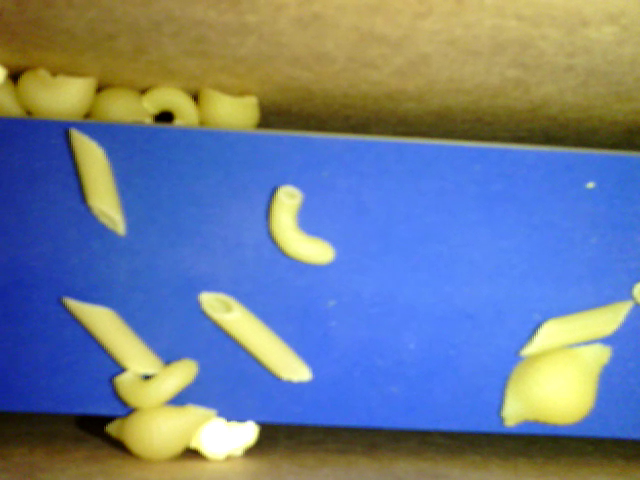elbow: (267, 185, 336, 264), (112, 357, 198, 410), (139, 86, 201, 127)
penne: (197, 291, 315, 383), (62, 298, 168, 377), (515, 300, 636, 359), (68, 127, 127, 237)
shell: (502, 343, 612, 428), (104, 404, 217, 462), (16, 68, 98, 122), (199, 87, 261, 130), (96, 86, 155, 123)
